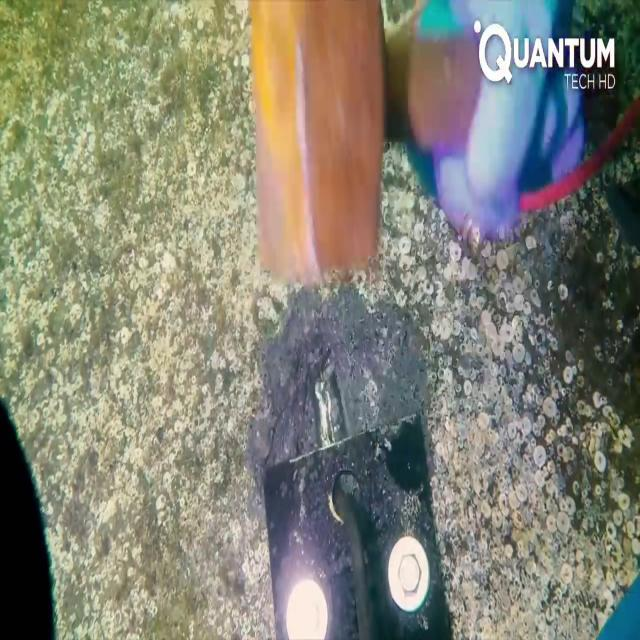Good Weld: (312, 367, 350, 434)
